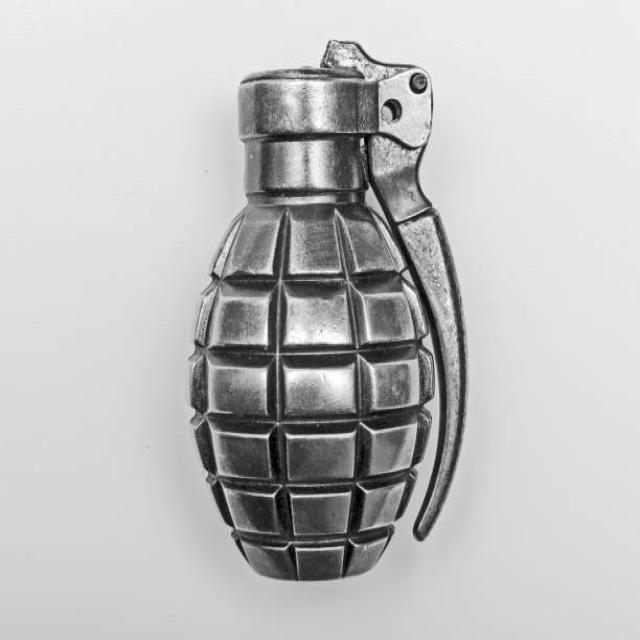grenade: (180, 39, 475, 591)
